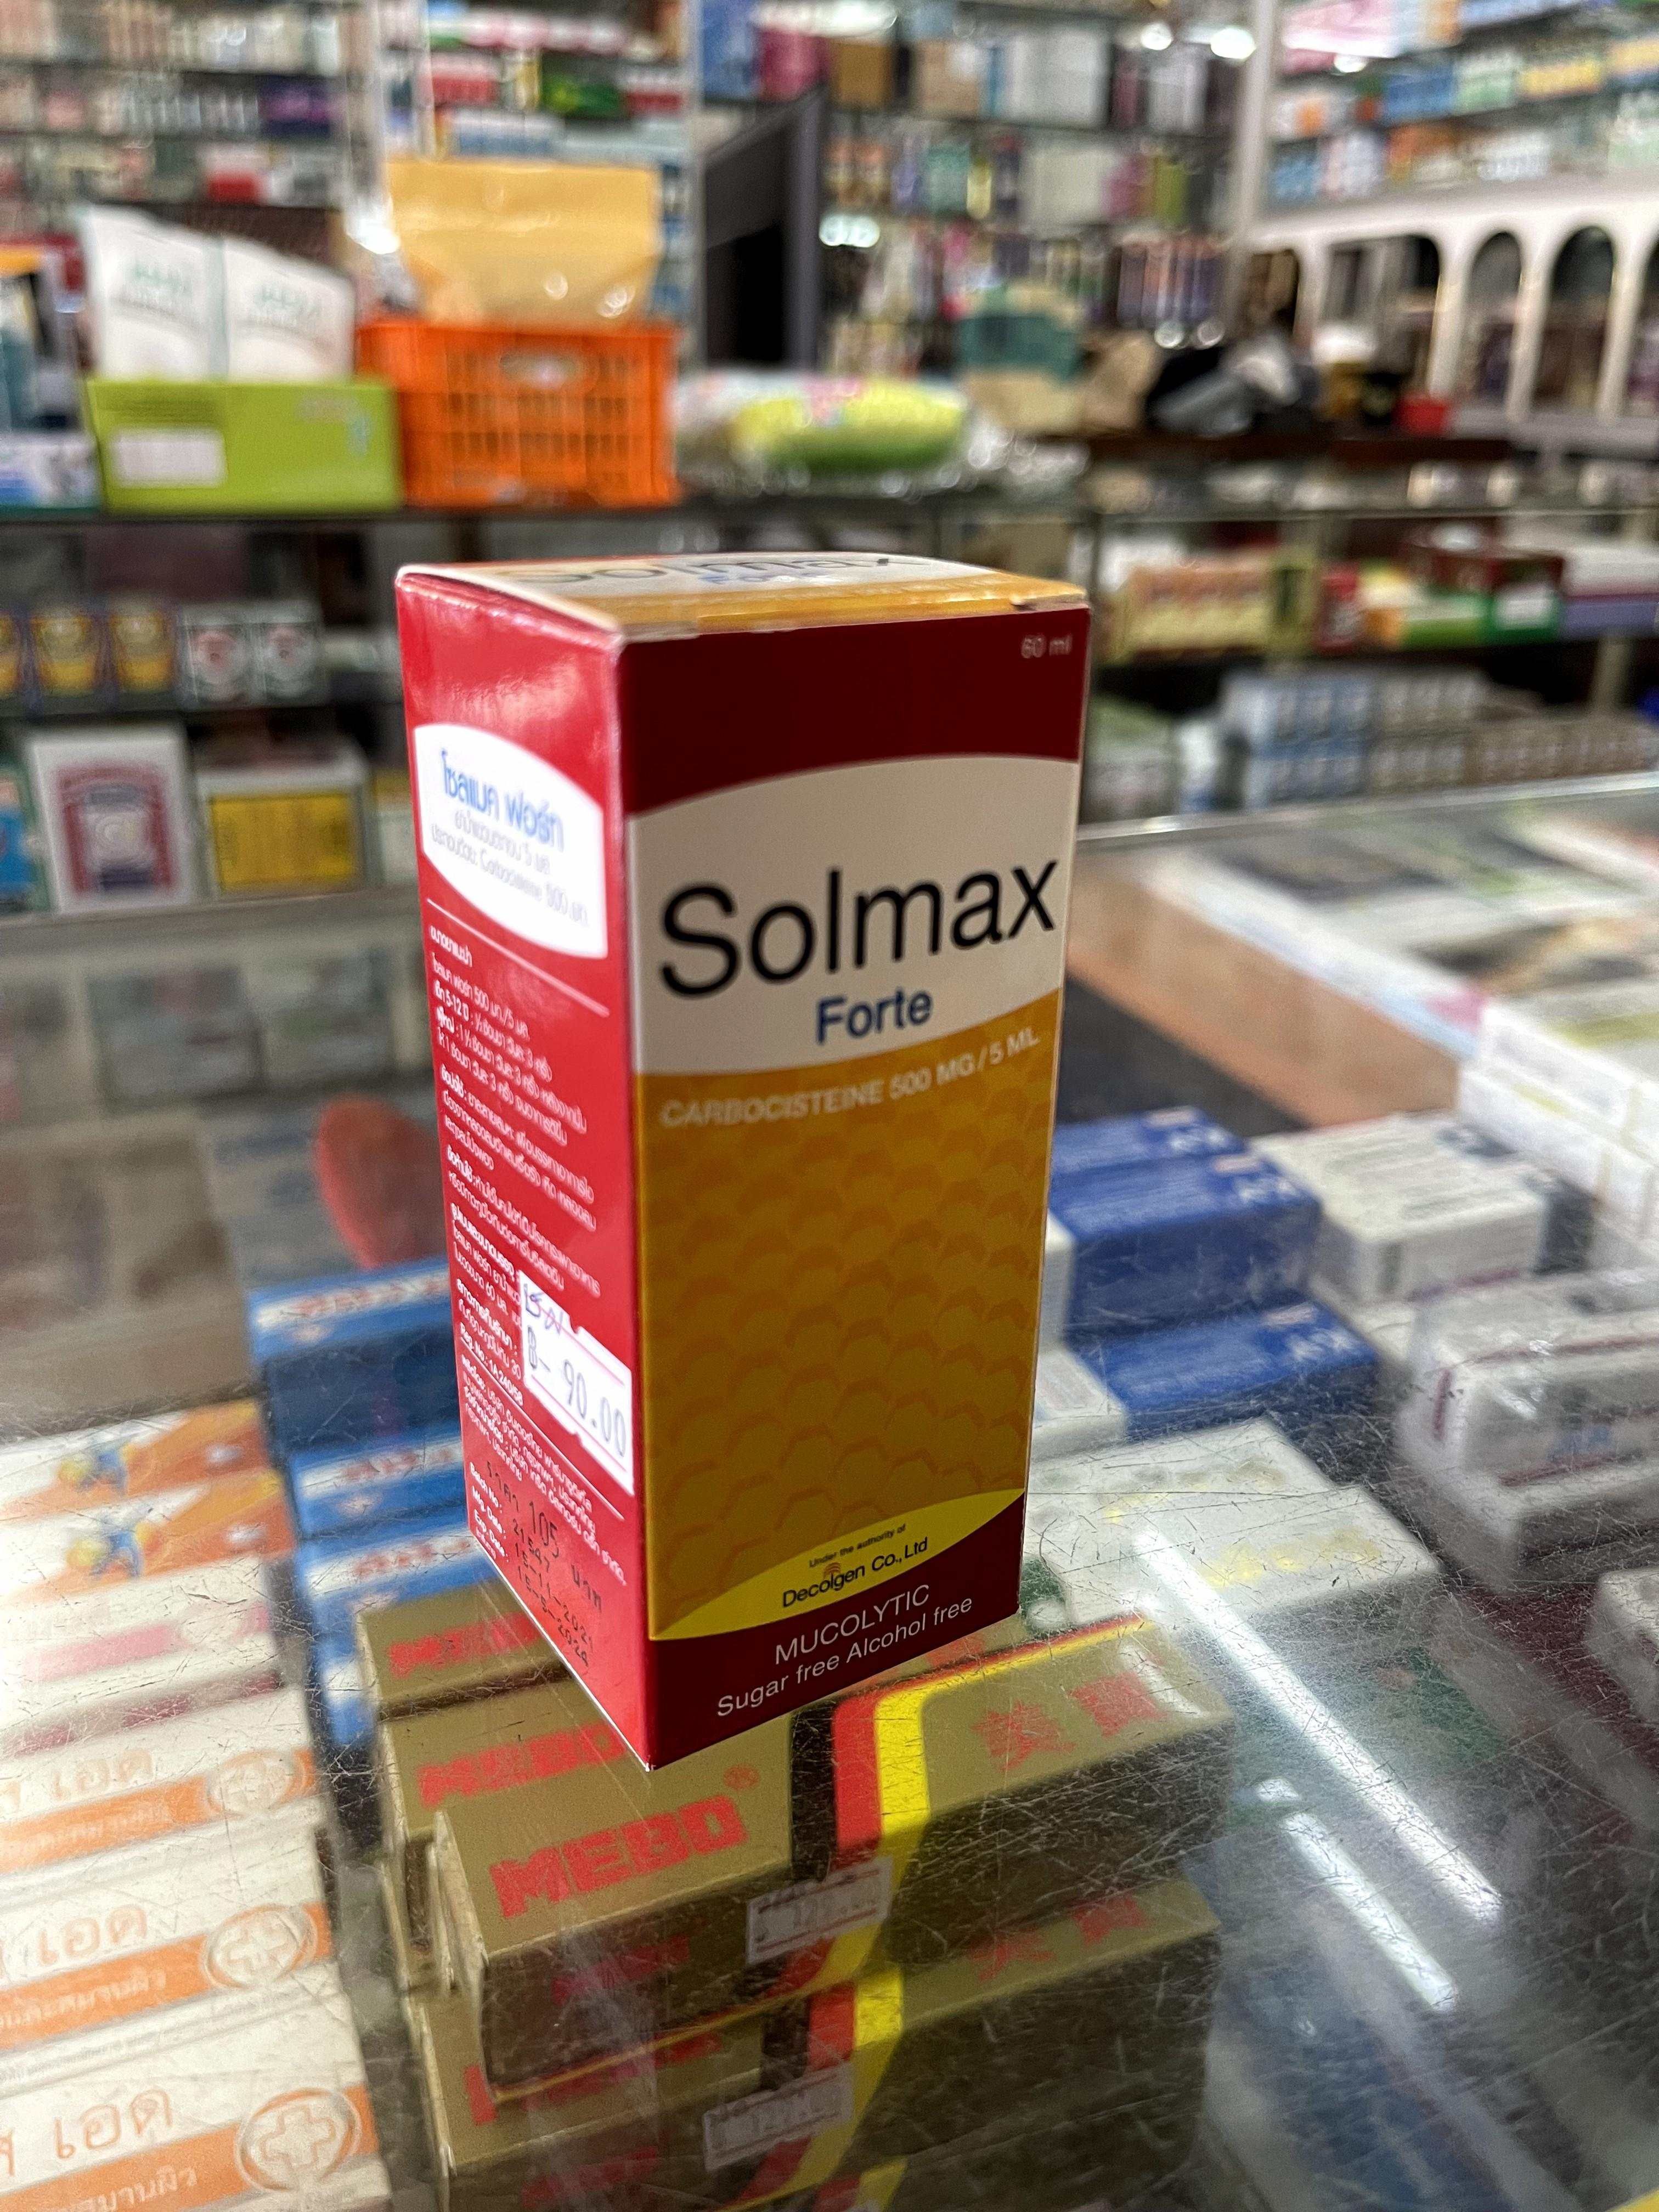Solmax: (401, 554, 1079, 1756)
